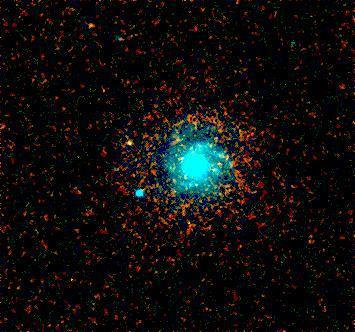star: (77, 13, 107, 43)
